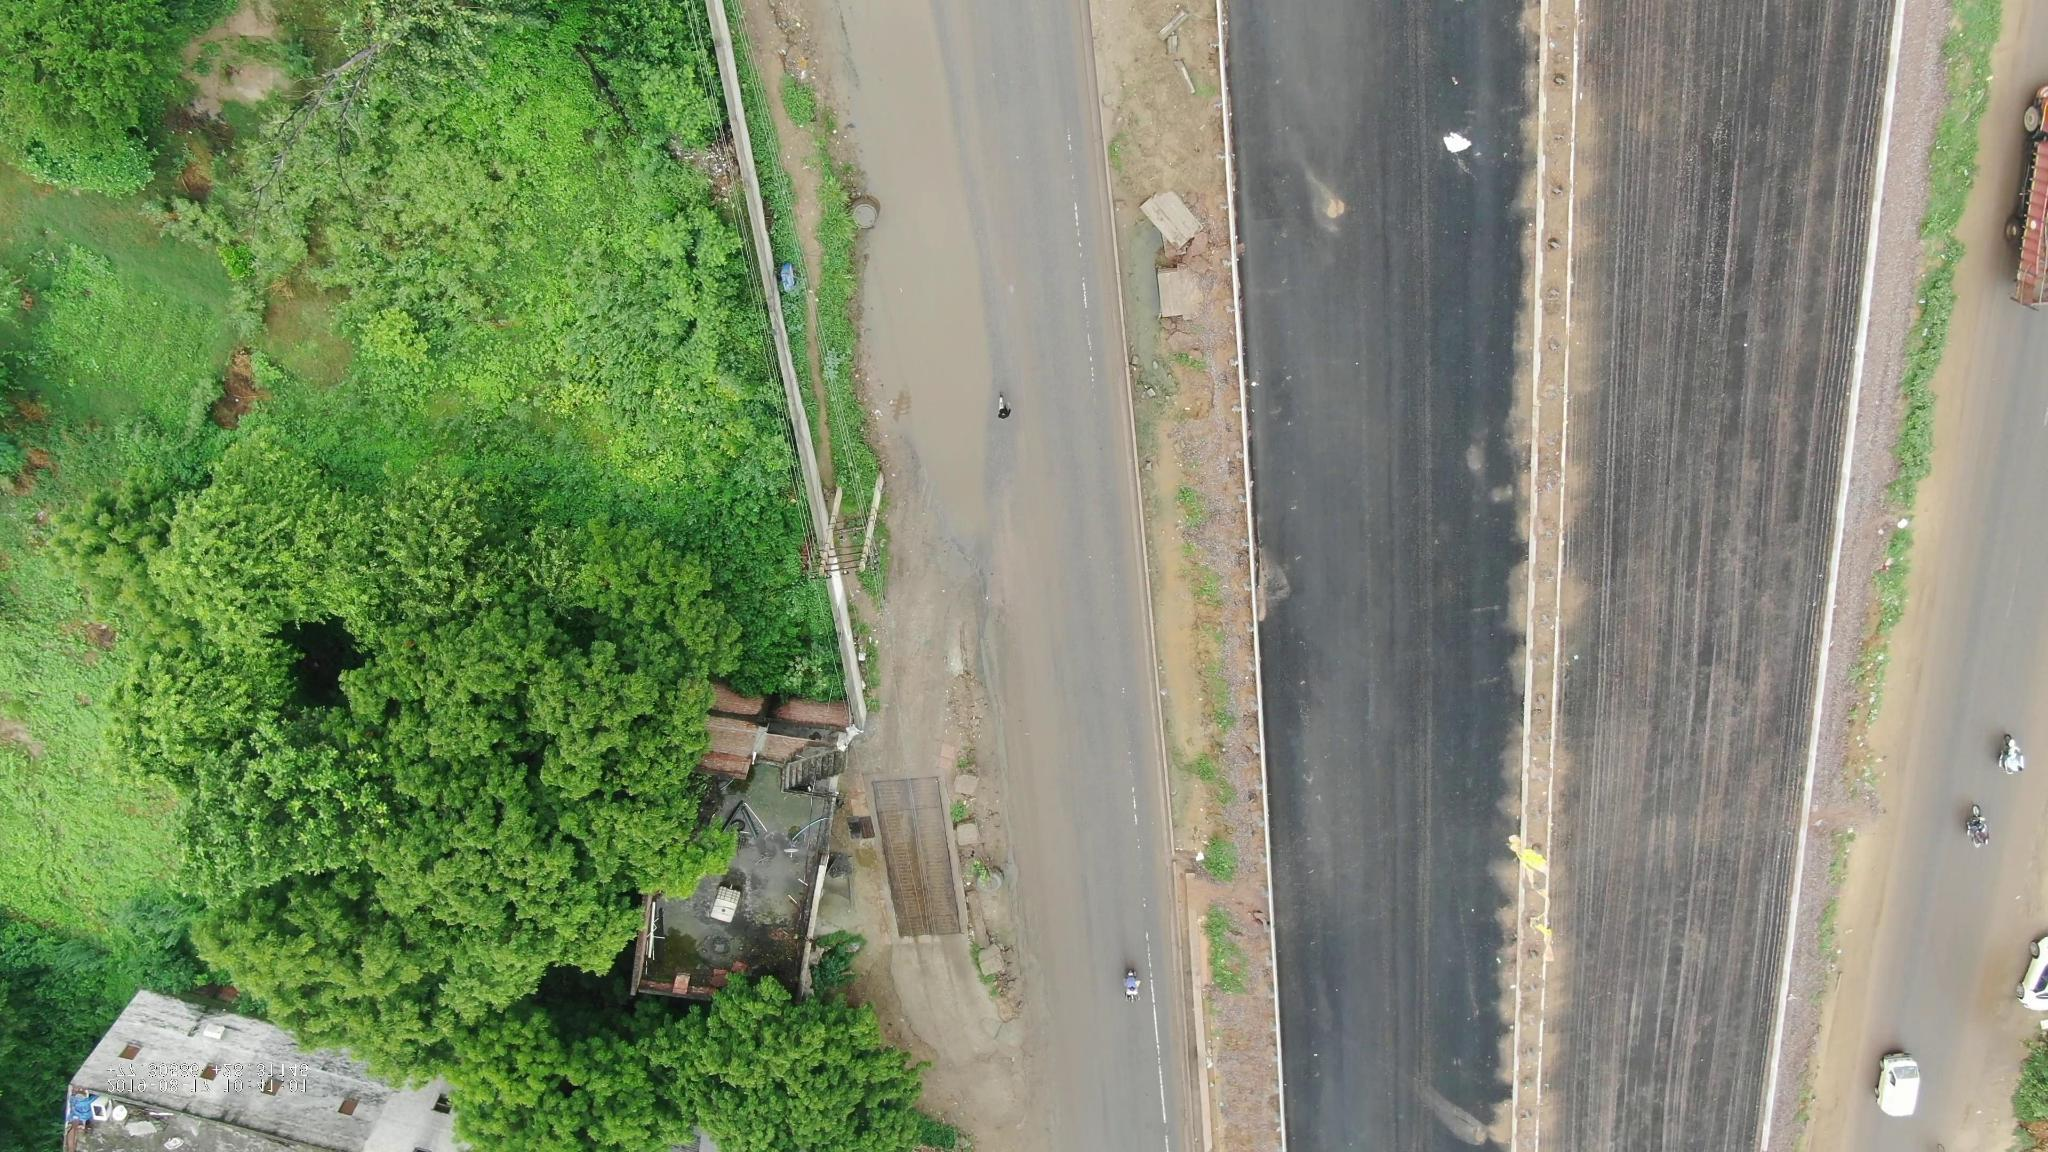Waterlogging: (865, 105, 964, 402)
